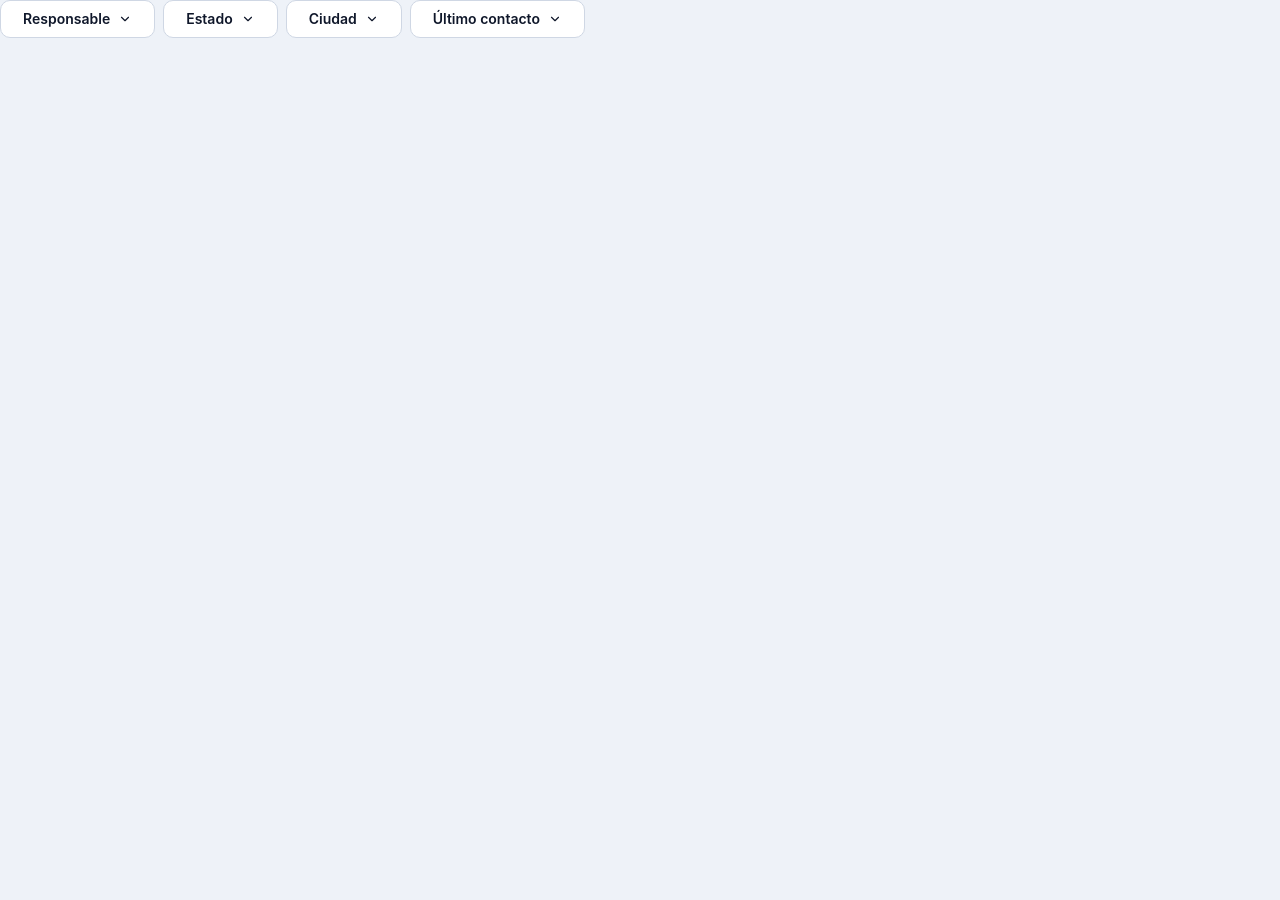
Test: BusinessQuickFilters › falls back to the value when an option has no label instead of crashing
Click the button "Responsable" at (78, 19), box [0,0,155,38]
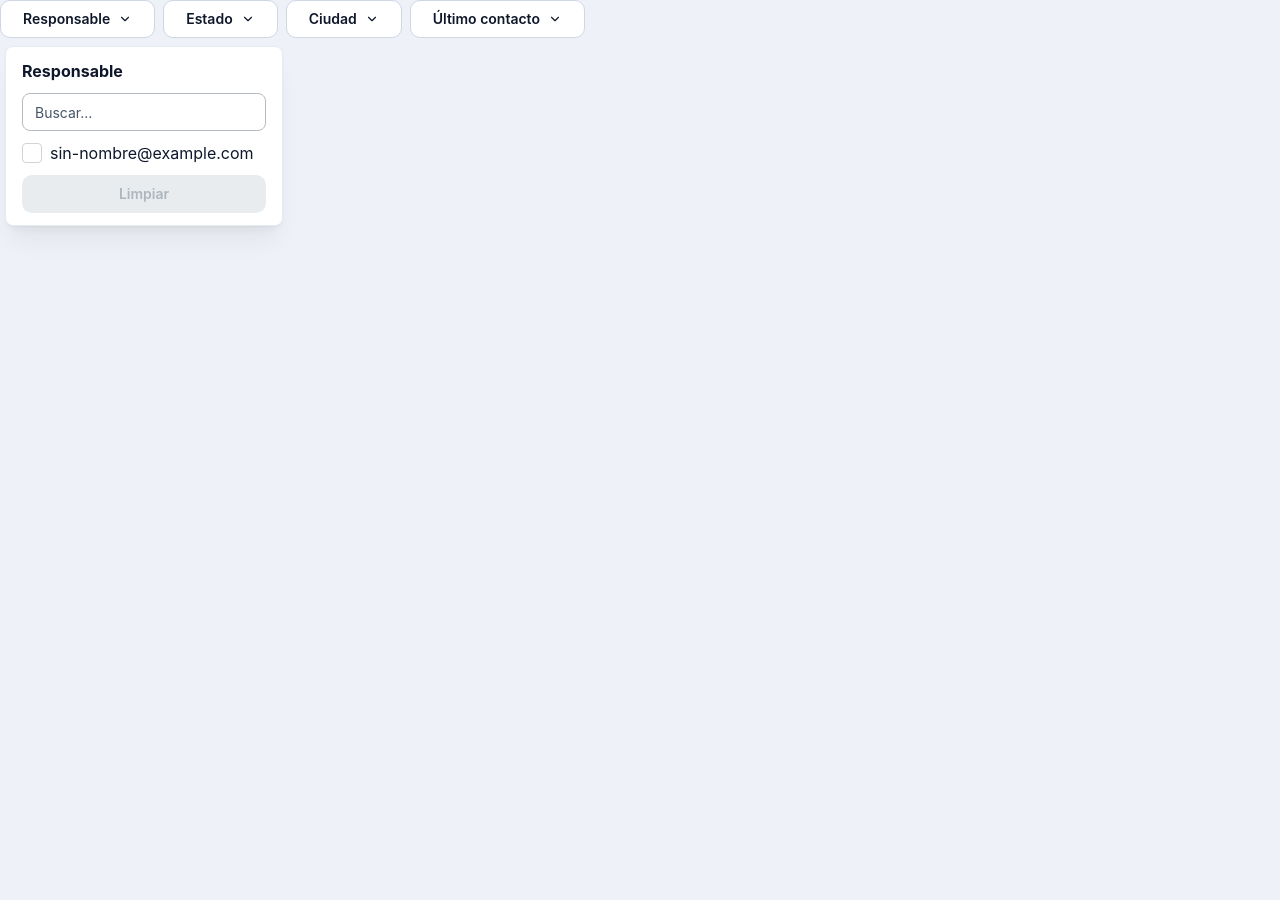
Check: the text "sin-nombre@example.com" is shown, box [22,141,266,165]
